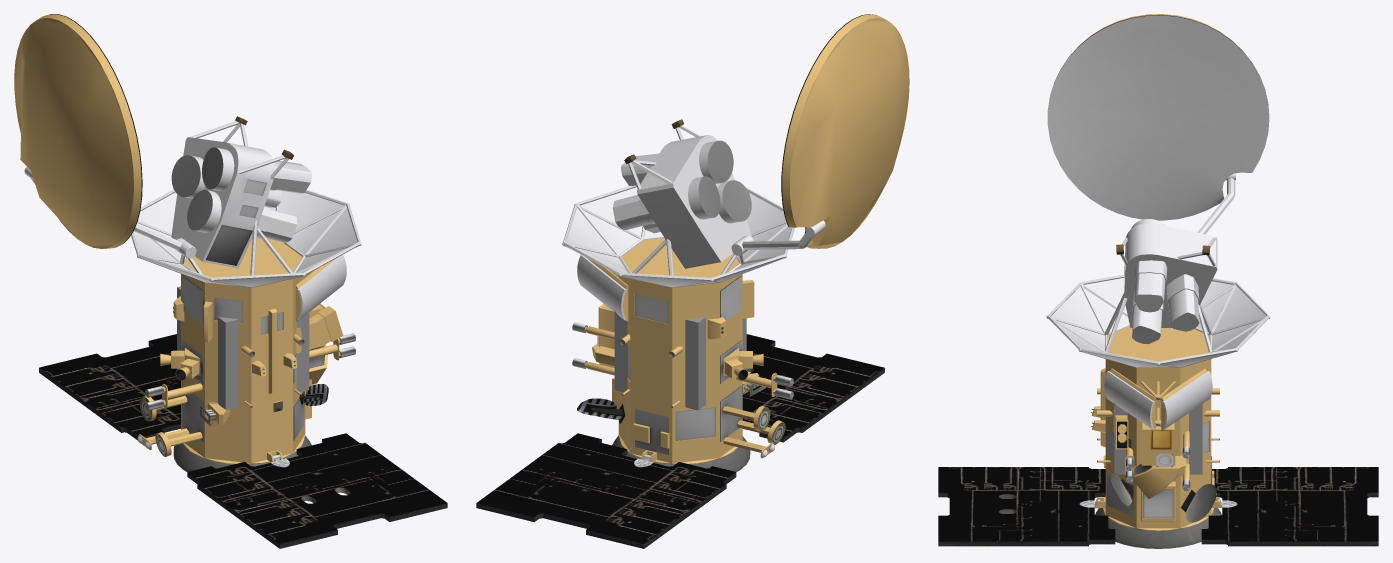
The model's file is aquarius.glb.
3 views of the same model, side by side, from view 1: azimuth 30°, elevation 25°; view 2: azimuth 150°, elevation 25°; view 3: azimuth 270°, elevation 25° (orthographic). The views are drawn at different scales.
Parts seen in each view (by area): view 1: foil_gold, tex_02, foil_silver, AO_other_dep, shiny_panel_left, _root; view 2: foil_gold, tex_02, foil_silver, AO_other_dep, shiny_panel_left, _root; view 3: AO_dish_dep, tex_02, foil_silver, foil_gold, shiny_panel_left, AO_other_dep, _root.
Boxes of the visible parts, <box> form: foil_gold: <box>14,14,343,464</box>; tex_02: <box>39,334,446,543</box>; foil_silver: <box>24,121,361,320</box>; AO_other_dep: <box>137,147,324,449</box>; shiny_panel_left: <box>39,116,447,548</box>; _root: <box>177,286,309,409</box>; foil_gold: <box>584,14,909,464</box>; tex_02: <box>477,334,884,543</box>; foil_silver: <box>562,125,825,320</box>; AO_other_dep: <box>628,140,774,457</box>; shiny_panel_left: <box>476,119,884,548</box>; _root: <box>614,310,746,410</box>; AO_dish_dep: <box>1047,15,1269,220</box>; tex_02: <box>938,467,1378,541</box>; foil_silver: <box>1046,173,1270,429</box>; foil_gold: <box>1071,14,1242,530</box>; shiny_panel_left: <box>938,244,1378,548</box>; AO_other_dep: <box>1107,421,1211,518</box>; _root: <box>1114,401,1202,474</box>.
Bounding box in the file's own units: 3.24 × 5 × 4.62.
8 materials, 5 textured.
